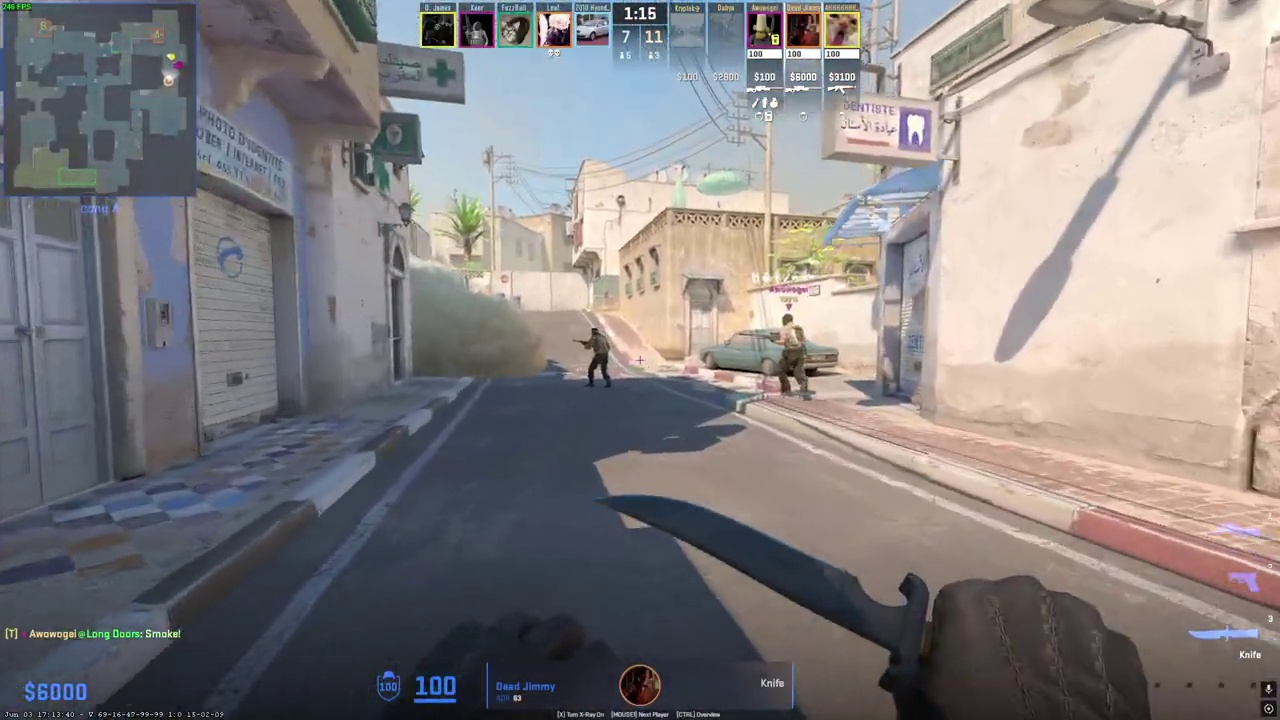Terrorist: (773, 313, 808, 394), (584, 328, 611, 388)
